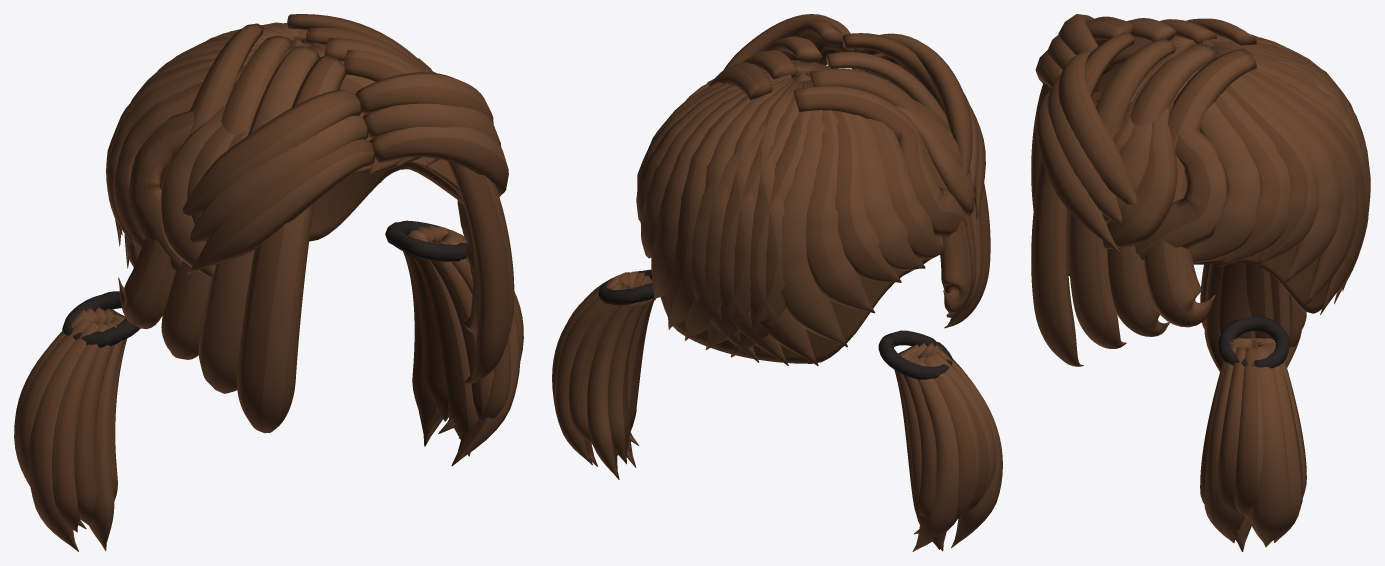
File: corte-feminino-05.glb
3 renders of one model, left to right at view 1: azimuth 30°, elevation 25°; view 2: azimuth 150°, elevation 25°; view 3: azimuth 270°, elevation 25°, orthographic. The views are drawn at different scales.
Visible parts, largest first — view 1: RCL_Corte_Feminino_05; view 2: RCL_Corte_Feminino_05; view 3: RCL_Corte_Feminino_05.
Boxes of the visible parts, x1,y1,x2,y2 form: RCL_Corte_Feminino_05: (14, 14, 523, 551); RCL_Corte_Feminino_05: (552, 14, 1002, 551); RCL_Corte_Feminino_05: (1031, 14, 1370, 551).
Size of the model in its own units: 0.3224 by 0.31 by 0.217.
